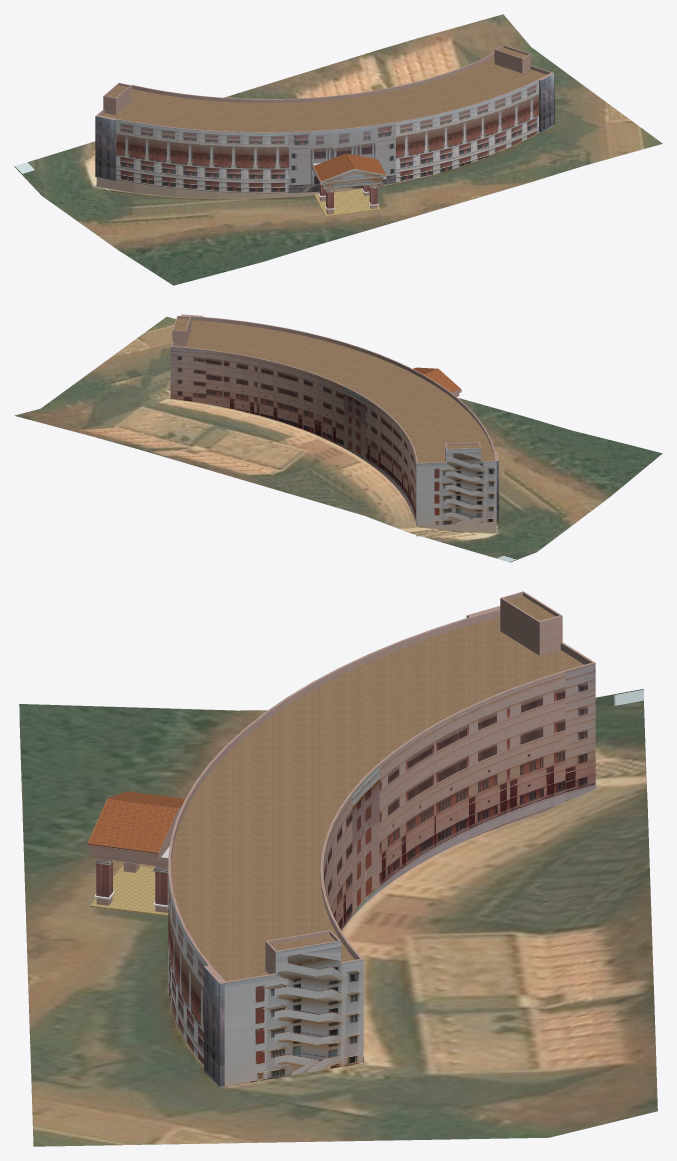
File: CVbhavan-2.fbx
The picture shows the model from 3 angles, top to bottom: view 1: azimuth 30°, elevation 25°; view 2: azimuth 150°, elevation 25°; view 3: azimuth 270°, elevation 25°; orthographic projection. The views are drawn at different scales.
Parts seen in each view (by area): view 1: Sketchup, G-Google Earth Terrain; view 2: G-Google Earth Terrain, Sketchup; view 3: G-Google Earth Terrain, Sketchup.
Part boxes in pixels (bbox=[...]): Sketchup: bbox=[95, 45, 554, 216]; G-Google Earth Terrain: bbox=[14, 14, 662, 285]; G-Google Earth Terrain: bbox=[14, 316, 662, 562]; Sketchup: bbox=[170, 314, 498, 536]; G-Google Earth Terrain: bbox=[19, 689, 657, 1146]; Sketchup: bbox=[87, 591, 595, 1087].
Bounding box in the file's own units: 135 × 75.21 × 22.74.
Materials: 25 (21 with a texture image).
